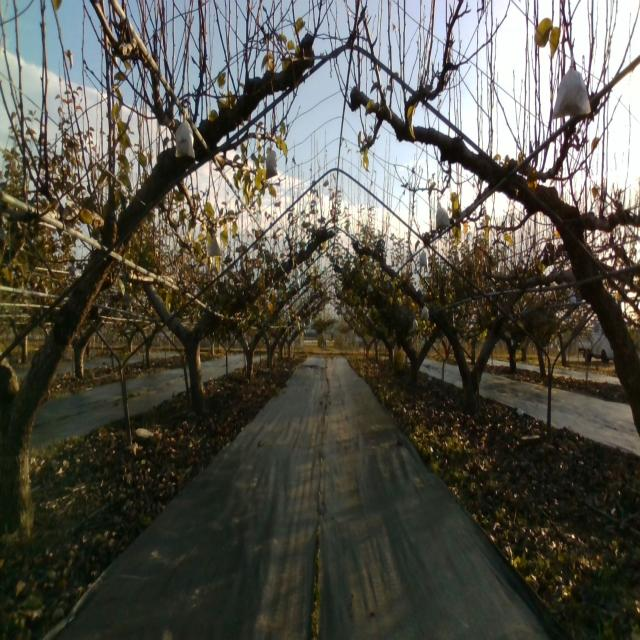pearbags: (552, 54, 592, 117), (174, 108, 196, 161), (207, 230, 225, 257), (265, 146, 278, 179), (436, 200, 450, 228)
